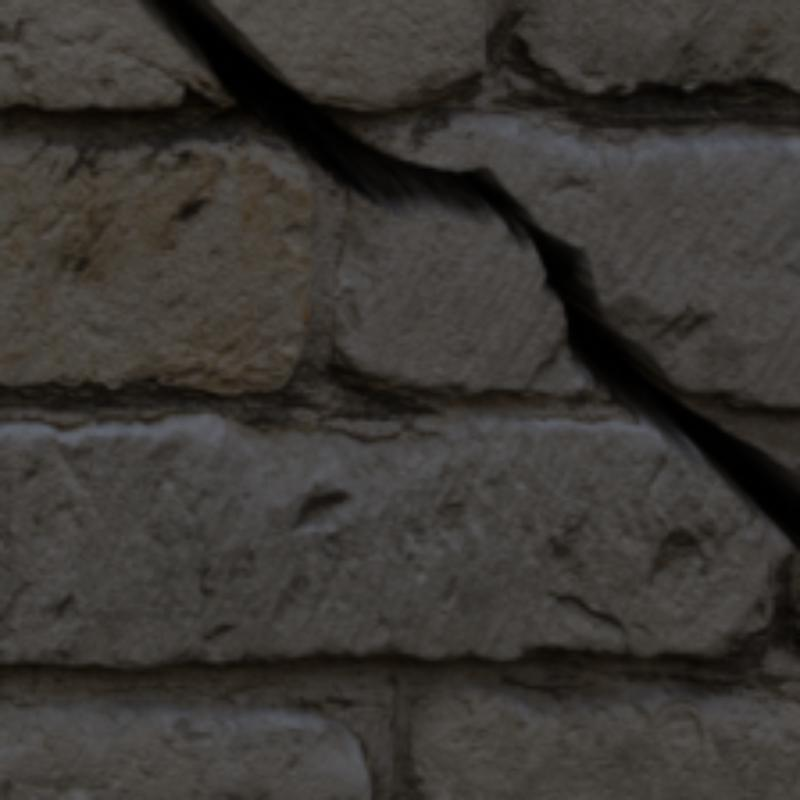pothole: (143, 0, 796, 550)
